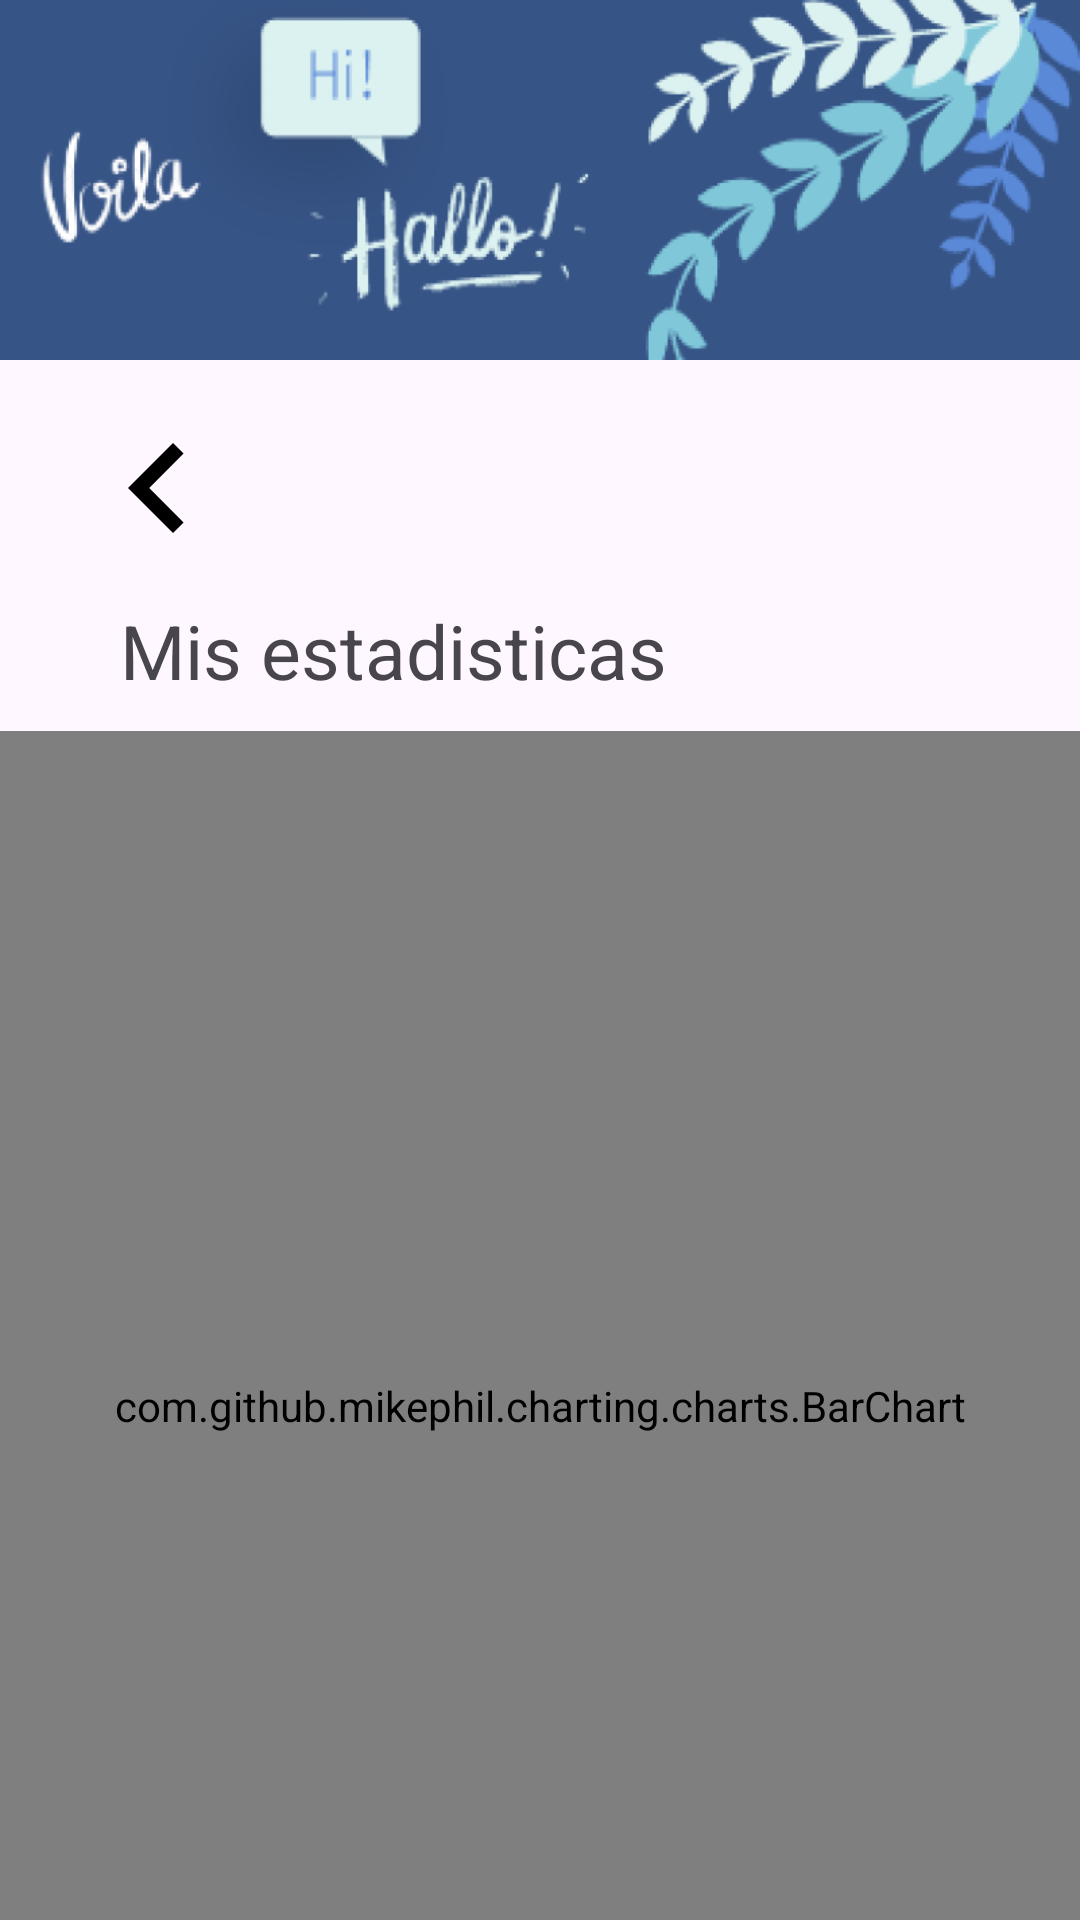

Where to tap for icons on this 1080 x 1920 app screen, as [x,y]:
chevron left: [156,488]
